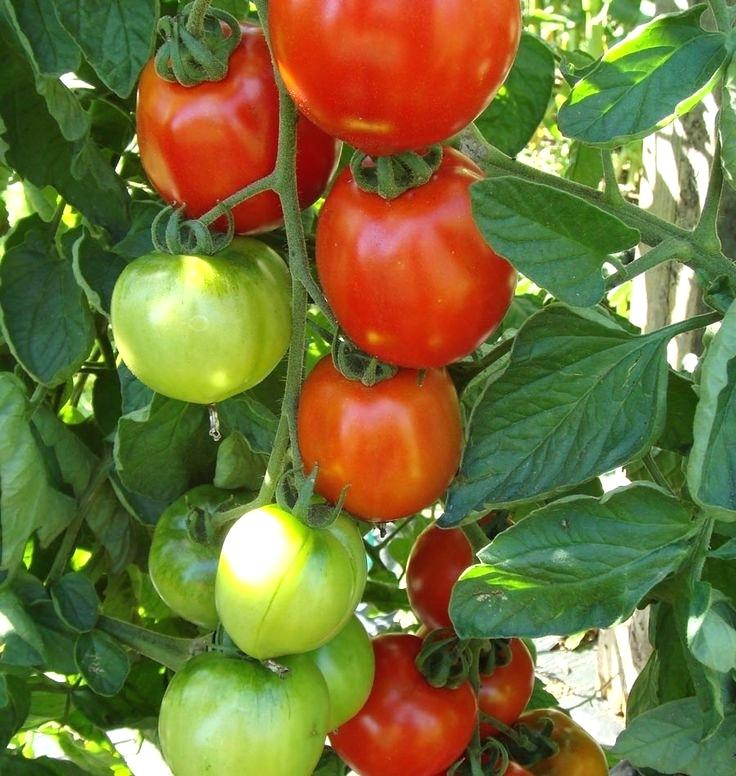tomato: (310, 147, 517, 368), (130, 22, 341, 238), (267, 1, 523, 152), (111, 232, 296, 404), (298, 351, 465, 522), (213, 497, 370, 657), (326, 634, 475, 776), (160, 654, 331, 776), (149, 481, 265, 630), (406, 510, 515, 634), (307, 611, 379, 733), (484, 707, 610, 776), (473, 634, 535, 745), (440, 751, 536, 776)
